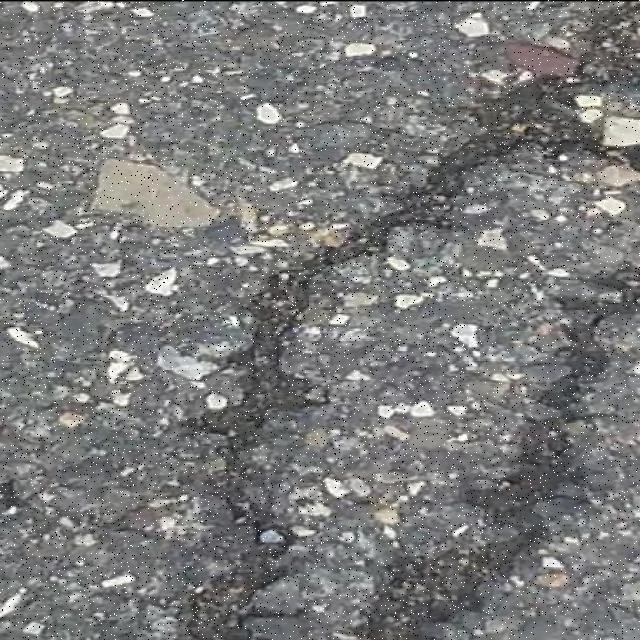Crack: (171, 0, 640, 640)
